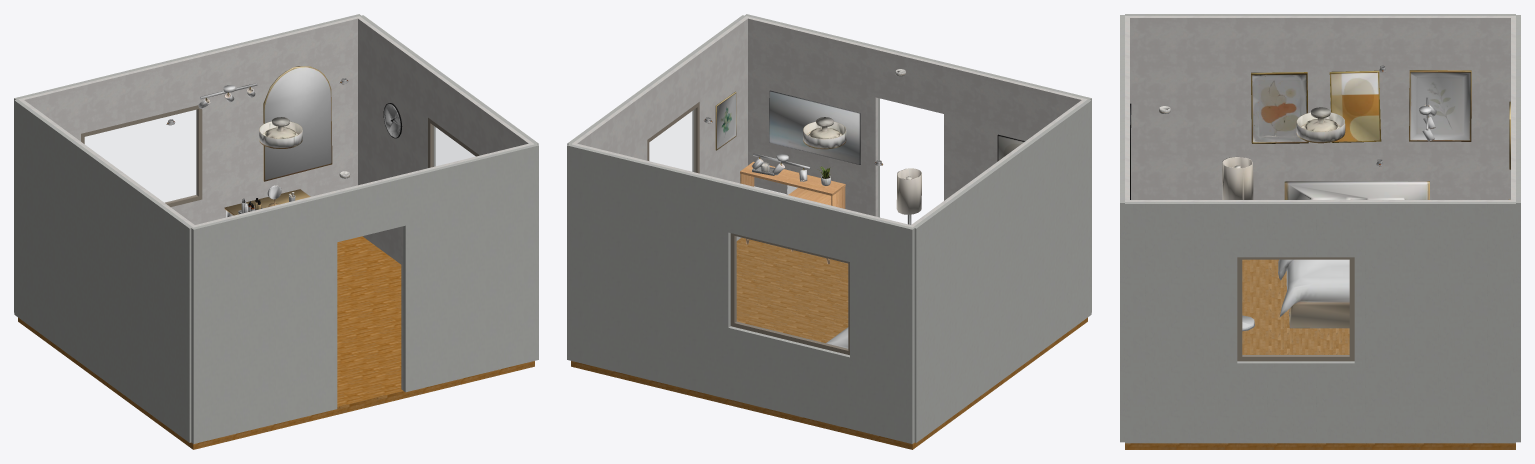
The model's file is scene_named.glb.
The picture shows the model from 3 angles, left to right: view 1: azimuth 30°, elevation 25°; view 2: azimuth 150°, elevation 25°; view 3: azimuth 270°, elevation 25°; orthographic projection. The views are drawn at different scales.
Parts seen in each view (by area): view 1: south_wall_exterior_bedroom/south_wall_exterior_bedroom/geom, west_wall_exterior_bedroom/west_wall_exterior_bedroom/geomet, north_wall_bedroom/north_wall_bedroom/geometry_0, east_wall_bedroom/east_wall_bedroom/geometry_0, floor_bedroom, window_1_bedroom/window_1_bedroom/glass, mirror_0, south_wall_bedroom/south_wall_bedroom/geometry_0, window_1_bedroom/window_1_bedroom/frame, north_wall_exterior_bedroom/north_wall_exterior_bedroom/geom, semi_flush_ceiling_light_0, window_2_bedroom/window_2_bedroom/glass (+4 smaller); view 2: north_wall_exterior_bedroom/north_wall_exterior_bedroom/geom, west_wall_exterior_bedroom/west_wall_exterior_bedroom/geomet, south_wall_bedroom/south_wall_bedroom/geometry_0, floor_bedroom, east_wall_bedroom/east_wall_bedroom/geometry_0, window_1_bedroom/window_1_bedroom/glass, photography_print_0, window_2_bedroom/window_2_bedroom/glass, window_1_bedroom/window_1_bedroom/frame, storage_cabinet_0/E_body_5.006, south_wall_exterior_bedroom/south_wall_exterior_bedroom/geom, floor_lamp_0 (+7 smaller); view 3: east_wall_exterior_bedroom/east_wall_exterior_bedroom/geomet, west_wall_bedroom/west_wall_bedroom/geometry_0, window_2_bedroom/window_2_bedroom/glass, floor_bedroom, bed_0, print_1, art_print_0, print_0, window_2_bedroom/window_2_bedroom/frame, north_wall_exterior_bedroom/north_wall_exterior_bedroom/geom, south_wall_exterior_bedroom/south_wall_exterior_bedroom/geom, floor_lamp_0 (+6 smaller).
Part boxes in pixels (x1=…): south_wall_exterior_bedroom/south_wall_exterior_bedroom/geom: x1=191, y1=144, x2=538, y2=443; west_wall_exterior_bedroom/west_wall_exterior_bedroom/geomet: x1=14, y1=99, x2=192, y2=442; north_wall_bedroom/north_wall_bedroom/geometry_0: x1=22, y1=17, x2=357, y2=224; east_wall_bedroom/east_wall_bedroom/geometry_0: x1=356, y1=16, x2=534, y2=264; floor_bedroom: x1=18, y1=236, x2=534, y2=449; window_1_bedroom/window_1_bedroom/glass: x1=85, y1=110, x2=196, y2=202; mirror_0: x1=263, y1=66, x2=332, y2=181; south_wall_bedroom/south_wall_bedroom/geometry_0: x1=195, y1=143, x2=530, y2=390; window_1_bedroom/window_1_bedroom/frame: x1=81, y1=105, x2=202, y2=207; north_wall_exterior_bedroom/north_wall_exterior_bedroom/geom: x1=14, y1=14, x2=360, y2=312; semi_flush_ceiling_light_0: x1=259, y1=117, x2=302, y2=148; window_2_bedroom/window_2_bedroom/glass: x1=432, y1=125, x2=474, y2=166; north_wall_exterior_bedroom/north_wall_exterior_bedroom/geom: x1=567, y1=144, x2=914, y2=443; west_wall_exterior_bedroom/west_wall_exterior_bedroom/geomet: x1=913, y1=99, x2=1091, y2=442; south_wall_bedroom/south_wall_bedroom/geometry_0: x1=748, y1=17, x2=1083, y2=216; floor_bedroom: x1=571, y1=237, x2=1087, y2=449; east_wall_bedroom/east_wall_bedroom/geometry_0: x1=571, y1=16, x2=749, y2=240; window_1_bedroom/window_1_bedroom/glass: x1=736, y1=236, x2=847, y2=349; photography_print_0: x1=769, y1=90, x2=860, y2=164; window_2_bedroom/window_2_bedroom/glass: x1=649, y1=109, x2=695, y2=171; window_1_bedroom/window_1_bedroom/frame: x1=730, y1=233, x2=849, y2=355; storage_cabinet_0/E_body_5.006: x1=740, y1=161, x2=845, y2=208; south_wall_exterior_bedroom/south_wall_exterior_bedroom/geom: x1=745, y1=14, x2=1091, y2=312; floor_lamp_0: x1=896, y1=168, x2=921, y2=224; east_wall_exterior_bedroom/east_wall_exterior_bedroom/geomet: x1=1125, y1=202, x2=1515, y2=443; west_wall_bedroom/west_wall_bedroom/geometry_0: x1=1125, y1=16, x2=1515, y2=199; window_2_bedroom/window_2_bedroom/glass: x1=1242, y1=260, x2=1349, y2=355; floor_bedroom: x1=1125, y1=259, x2=1515, y2=449; bed_0: x1=1278, y1=181, x2=1429, y2=328; print_1: x1=1409, y1=70, x2=1471, y2=141; art_print_0: x1=1251, y1=72, x2=1308, y2=143; print_0: x1=1329, y1=70, x2=1381, y2=142; window_2_bedroom/window_2_bedroom/frame: x1=1237, y1=257, x2=1354, y2=361; north_wall_exterior_bedroom/north_wall_exterior_bedroom/geom: x1=1516, y1=15, x2=1520, y2=442; south_wall_exterior_bedroom/south_wall_exterior_bedroom/geom: x1=1120, y1=15, x2=1124, y2=442; floor_lamp_0: x1=1222, y1=156, x2=1254, y2=331.
Bounding box in the file's own units: 4.6 × 2.8 × 4.1.
44 materials, 39 textured.
